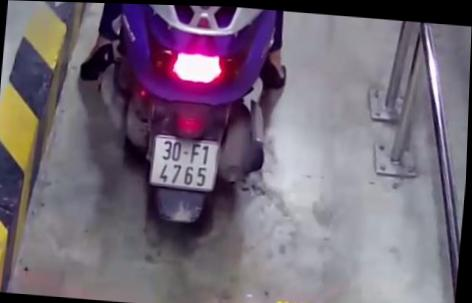LP: (146, 128, 227, 197)
